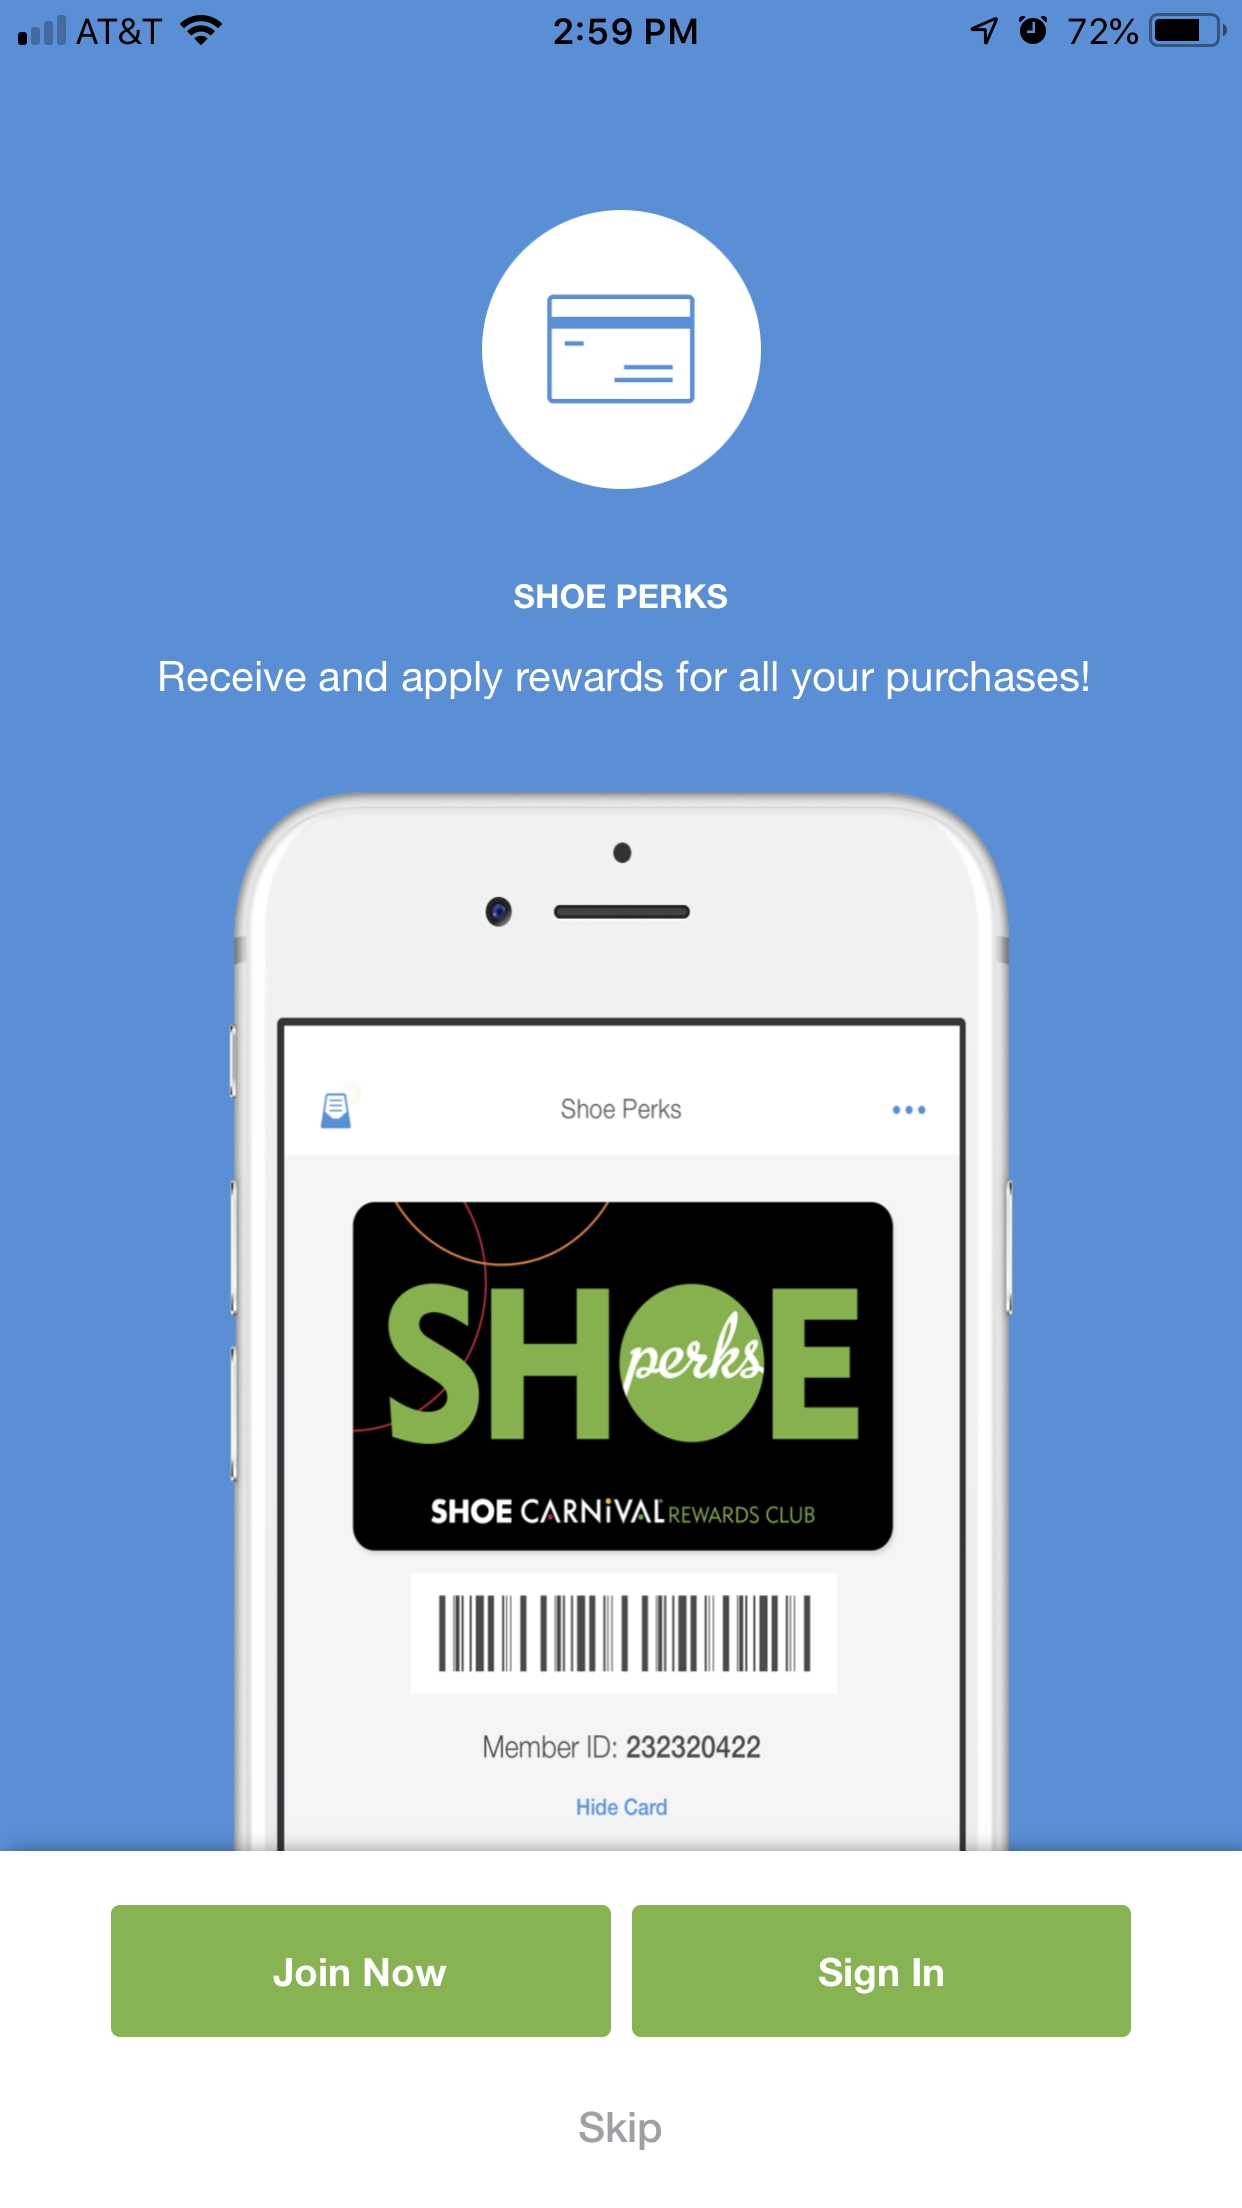Icon: (482, 209, 763, 491)
Image: (229, 792, 1015, 1852)
Text: (161, 660, 1090, 701), (513, 584, 728, 611), (578, 2109, 663, 2150)
TextButton: (111, 1905, 613, 2038), (632, 1905, 1131, 2038)
UpperTaskBar: (2, 2, 1242, 49)
